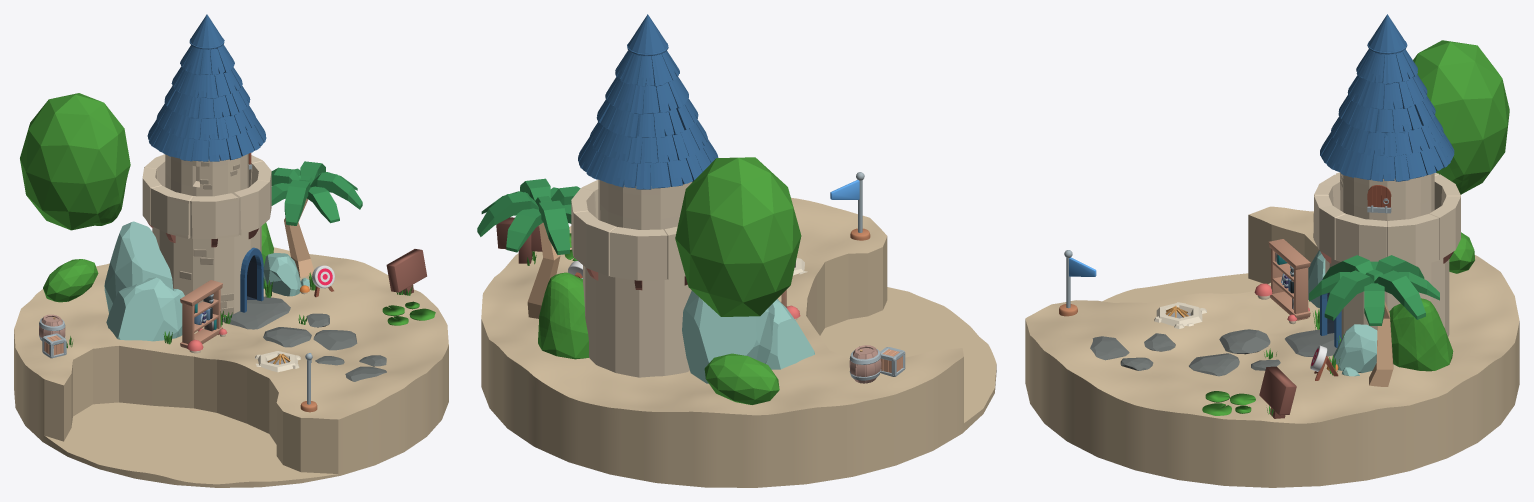
File: island2.glb
3 renders of one model, left to right at view 1: azimuth 30°, elevation 25°; view 2: azimuth 150°, elevation 25°; view 3: azimuth 270°, elevation 25°, orthographic. The views are drawn at different scales.
Visible parts, largest first — view 1: land, tower, Icosphere, stone3, Group 20, stone, top.001, top.002, bookcaseWideFilled, top.003, Icosphere.002, top.004 (+12 smaller); view 2: land, tower, Icosphere, stone, Group 20, top.001, Icosphere.001, top.002, Icosphere.002, top.003, top.004, stone3 (+6 smaller); view 3: land, tower, Icosphere, Group 20, top.001, Icosphere.001, top.002, bookcaseWideFilled, top.003, top.004, stone2.001, top.005 (+12 smaller).
Part boxes in pixels (left/top/right/bottom): land: left=14, top=247, right=448, bottom=487; tower: left=142, top=14, right=271, bottom=317; Icosphere: left=20, top=93, right=130, bottom=230; stone3: left=106, top=277, right=182, bottom=341; Group 20: left=271, top=161, right=362, bottom=225; stone: left=104, top=221, right=173, bottom=313; top.001: left=147, top=118, right=266, bottom=161; top.002: left=156, top=103, right=255, bottom=140; bookcaseWideFilled: left=180, top=280, right=222, bottom=348; top.003: left=164, top=86, right=250, bottom=118; Icosphere.002: left=43, top=259, right=98, bottom=302; top.004: left=171, top=66, right=242, bottom=98; land: left=481, top=197, right=996, bottom=487; tower: left=571, top=14, right=692, bottom=377; Icosphere: left=675, top=157, right=801, bottom=316; stone: left=682, top=290, right=774, bottom=383; Group 20: left=477, top=178, right=580, bottom=254; top.001: left=578, top=136, right=718, bottom=189; Icosphere.001: left=538, top=272, right=589, bottom=359; top.002: left=589, top=119, right=707, bottom=163; Icosphere.002: left=704, top=353, right=779, bottom=404; top.003: left=596, top=98, right=698, bottom=137; top.004: left=605, top=76, right=688, bottom=114; stone3: left=766, top=299, right=814, bottom=369; land: left=1025, top=206, right=1519, bottom=487; tower: left=1313, top=14, right=1460, bottom=338; Icosphere: left=1413, top=40, right=1509, bottom=194; Group 20: left=1309, top=255, right=1439, bottom=325; top.001: left=1320, top=132, right=1454, bottom=181; Icosphere.001: left=1389, top=298, right=1453, bottom=371; top.002: left=1331, top=115, right=1443, bottom=156; bookcaseWideFilled: left=1268, top=239, right=1310, bottom=320; top.003: left=1338, top=95, right=1435, bottom=132; top.004: left=1347, top=74, right=1427, bottom=109; stone2.001: left=1331, top=324, right=1377, bottom=372; top.005: left=1356, top=49, right=1417, bottom=84.
Size of the model in its own units: 2.05 by 1.72 by 2.
